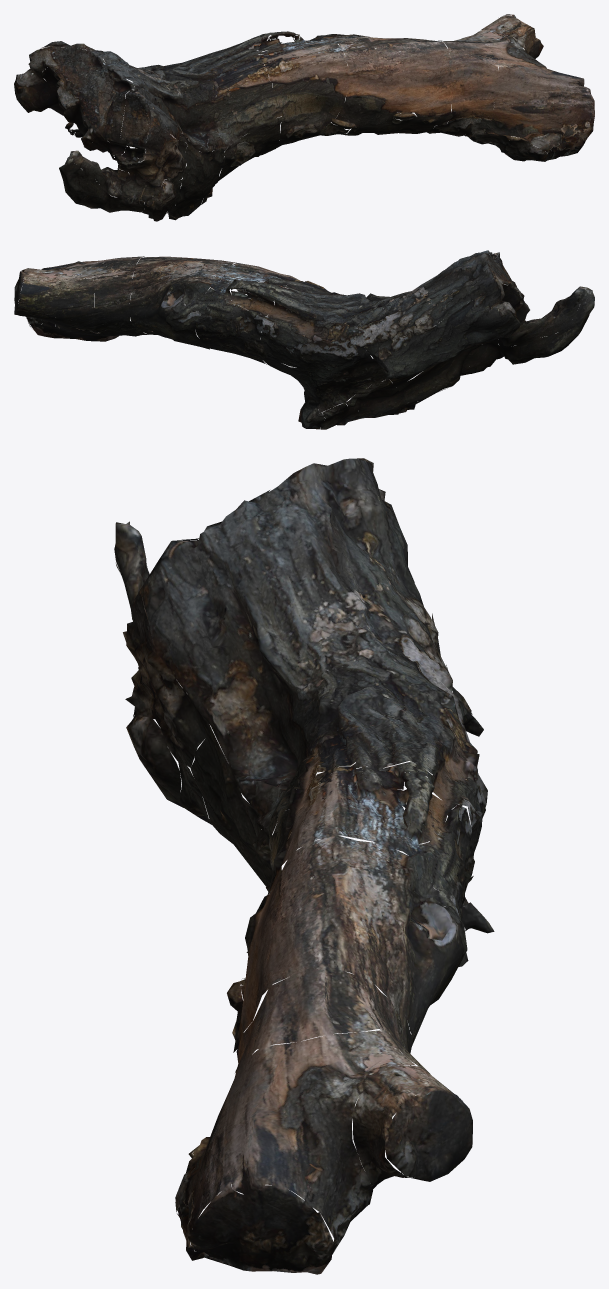
File: log_mossy.glb
3 views of the same model, one above another, from view 1: azimuth 30°, elevation 25°; view 2: azimuth 150°, elevation 25°; view 3: azimuth 270°, elevation 25° (orthographic). The views are drawn at different scales.
Parts seen in each view (by area): view 1: Object_5; view 2: Object_5; view 3: Object_5.
Boxes of the visible parts, bbox=[...] form: Object_5: bbox=[14, 14, 594, 221]; Object_5: bbox=[14, 250, 594, 429]; Object_5: bbox=[114, 458, 494, 1274].
Bounding box in the file's own units: 1.32 × 0.451 × 0.415.
1 material, 1 textured.
